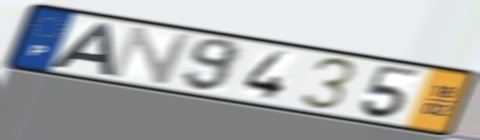3: (297, 55, 359, 112)
4: (241, 49, 288, 102)
5: (357, 62, 423, 121)
9: (181, 37, 243, 96)
A: (47, 20, 116, 77)
N: (106, 24, 197, 86)
